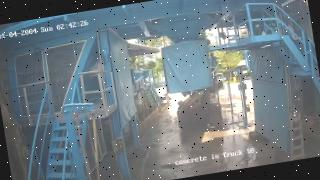cement_mixer_truck: (177, 73, 224, 129)
